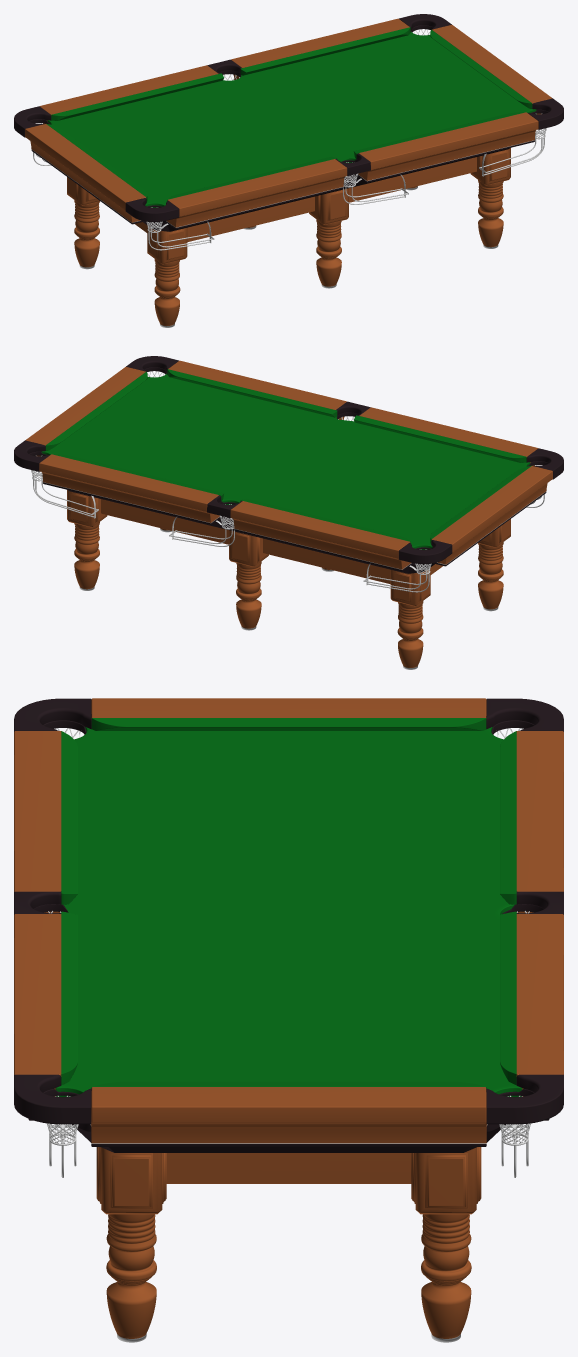
Rendered from Pool table.fbx.
3 views of the same model, one above another, from view 1: azimuth 30°, elevation 25°; view 2: azimuth 150°, elevation 25°; view 3: azimuth 270°, elevation 25° (orthographic). The views are drawn at different scales.
Visible parts, largest first — view 1: table; view 2: table; view 3: table.
Part boxes in pixels (x1=…): table: x1=14, y1=14, x2=563, y2=327; table: x1=14, y1=356, x2=563, y2=669; table: x1=14, y1=698, x2=563, y2=1342.
Size of the model in its own units: 260 by 82.67 by 148.
